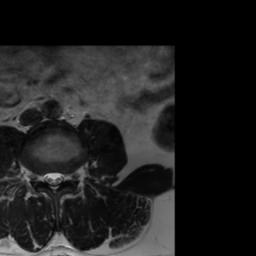CCS_normal: (51, 164, 57, 199)
LFS_normal: (65, 167, 75, 186)
LLS_normal: (57, 165, 65, 187)
RFS_stenosis: (35, 165, 44, 187)
RLS_normal: (44, 166, 51, 189)
